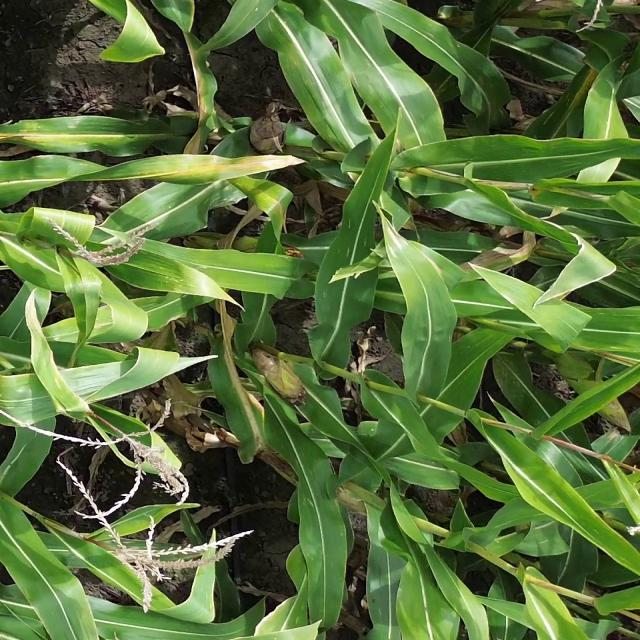gray-leaf-spot: (20, 119, 128, 154), (586, 306, 640, 348), (331, 214, 374, 263), (540, 92, 580, 132), (199, 184, 246, 210)
northern-leaf-blight: (219, 367, 268, 451), (178, 38, 222, 130), (158, 156, 267, 184), (472, 244, 538, 279), (600, 413, 640, 449)
southern-leaf-blight: (489, 358, 539, 402), (153, 268, 197, 294)
